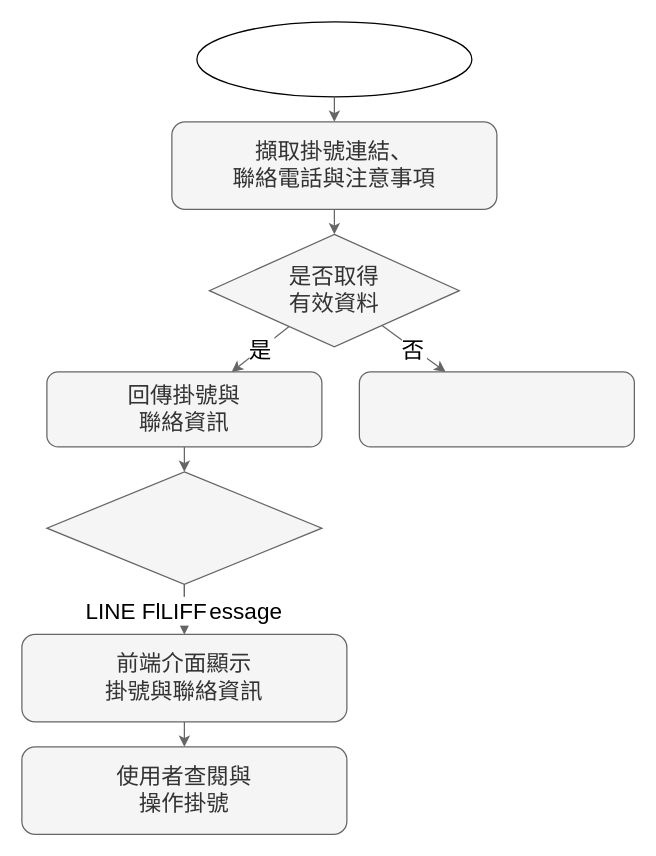
This 656x856 diagram has some shape labels left out. The shapes that lost their labels are listed below. From the top down, each one's centre as x and y in pixels, then its label:
At [334,59]: "確認合適 醫療院所".
At [496,409]: "告知使用者 查無資料".
At [184,527]: "傳送方式 選擇".
